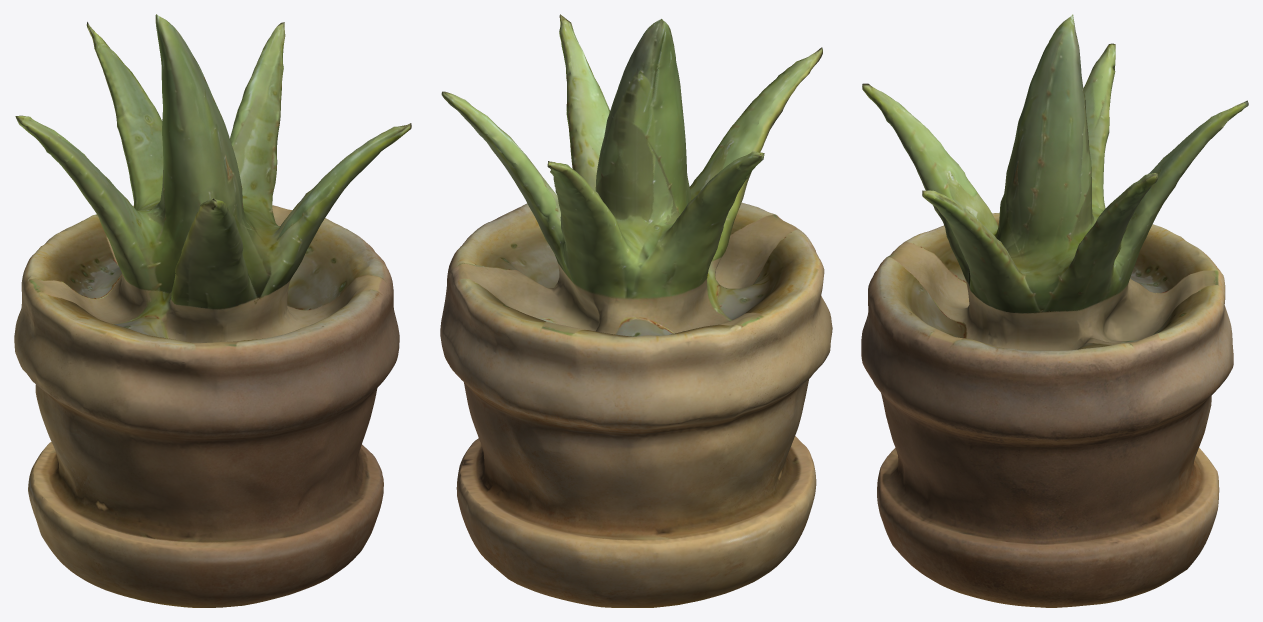
File: aloevera3d.glb
3 renders of one model, left to right at view 1: azimuth 30°, elevation 25°; view 2: azimuth 150°, elevation 25°; view 3: azimuth 270°, elevation 25°, orthographic. The views are drawn at different scales.
Size of the model in its own units: 0.7687 by 1.2 by 0.7961.
Materials: 1 (1 with a texture image).
